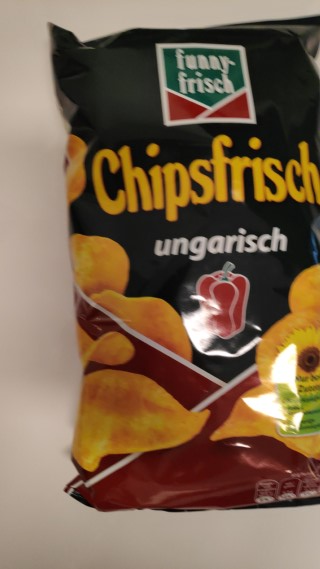chipsfrisch: (41, 17, 320, 511)
